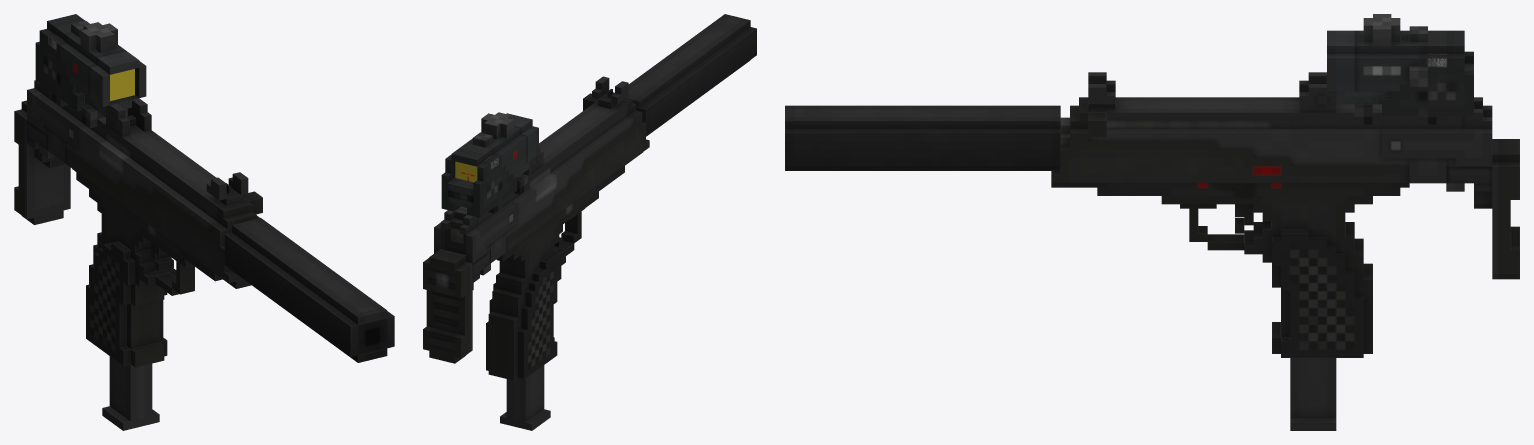
The model's file is RD_KASHTAN.glb.
The picture shows the model from 3 angles, left to right: view 1: azimuth 30°, elevation 25°; view 2: azimuth 150°, elevation 25°; view 3: azimuth 270°, elevation 25°; orthographic projection. The views are drawn at different scales.
Parts seen in each view (by area): view 1: AEK919K, SILENCER_6X6, SCOPE_TASCO, AEK919K_CLIP, SCOPE_EOTECH; view 2: AEK919K, SILENCER_6X6, SCOPE_TASCO, SCOPE_EOTECH, AEK919K_CLIP; view 3: AEK919K, SILENCER_6X6, SCOPE_TASCO, SCOPE_EOTECH, AEK919K_CLIP.
Part boxes in pixels (bbox=[...]): AEK919K: bbox=[14, 80, 259, 367]; SILENCER_6X6: bbox=[224, 218, 394, 362]; SCOPE_TASCO: bbox=[39, 14, 146, 128]; AEK919K_CLIP: bbox=[102, 356, 159, 430]; SCOPE_EOTECH: bbox=[35, 17, 127, 117]; AEK919K: bbox=[423, 76, 649, 380]; SILENCER_6X6: bbox=[626, 14, 756, 136]; SCOPE_TASCO: bbox=[445, 112, 538, 213]; SCOPE_EOTECH: bbox=[441, 140, 528, 217]; AEK919K_CLIP: bbox=[500, 365, 550, 430]; AEK919K: bbox=[1051, 72, 1519, 357]; SILENCER_6X6: bbox=[785, 105, 1060, 170]; SCOPE_TASCO: bbox=[1327, 14, 1464, 124]; SCOPE_EOTECH: bbox=[1336, 30, 1473, 116]; AEK919K_CLIP: bbox=[1290, 358, 1336, 430].
Size of the model in its own units: 0.0689 by 0.4724 by 0.7874.
6 materials, 6 textured.
